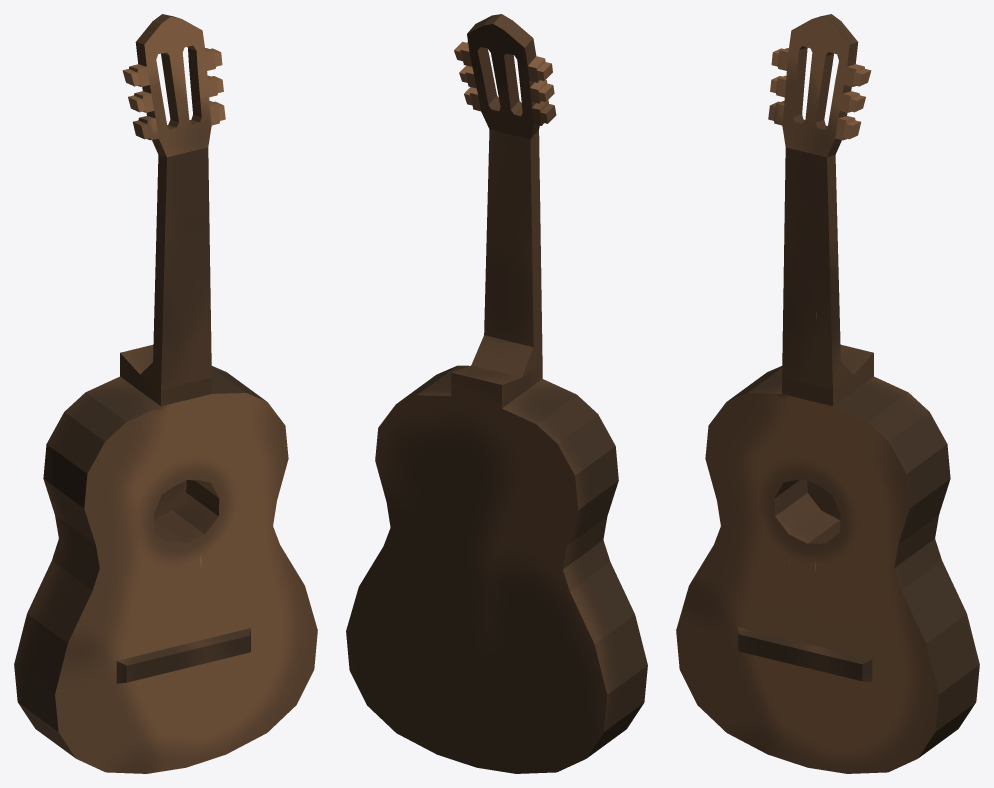
The model's file is Guitar.fbx.
3 renders of one model, left to right at view 1: azimuth 30°, elevation 25°; view 2: azimuth 150°, elevation 25°; view 3: azimuth 330°, elevation 25°, orthographic.
Visible parts, largest first — view 1: Plane; view 2: Plane; view 3: Plane.
Boxes of the visible parts, <box> form: Plane: <box>14,14,317,773</box>; Plane: <box>346,14,647,773</box>; Plane: <box>676,14,979,773</box>.
Size of the model in its own units: 156 by 421 by 46.78.
